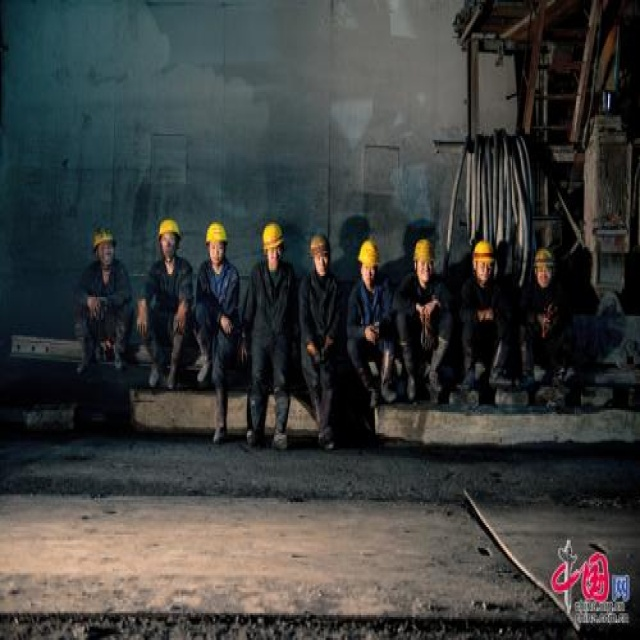safety_helmet: (262, 222, 284, 250), (357, 239, 379, 267), (205, 221, 228, 244), (472, 240, 495, 263), (157, 218, 181, 240), (92, 227, 115, 249), (413, 238, 434, 262), (533, 247, 555, 268), (309, 234, 329, 257)
